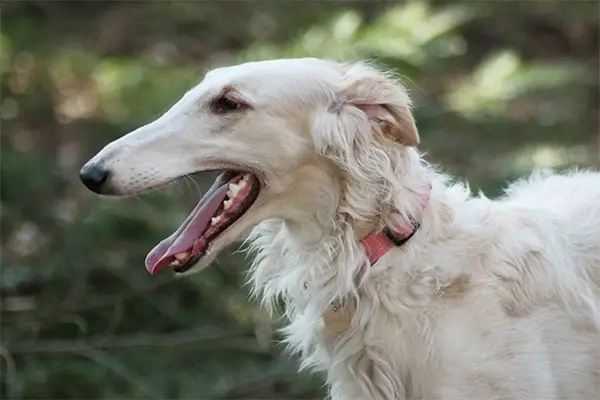borzoi: (56, 15, 600, 400)
